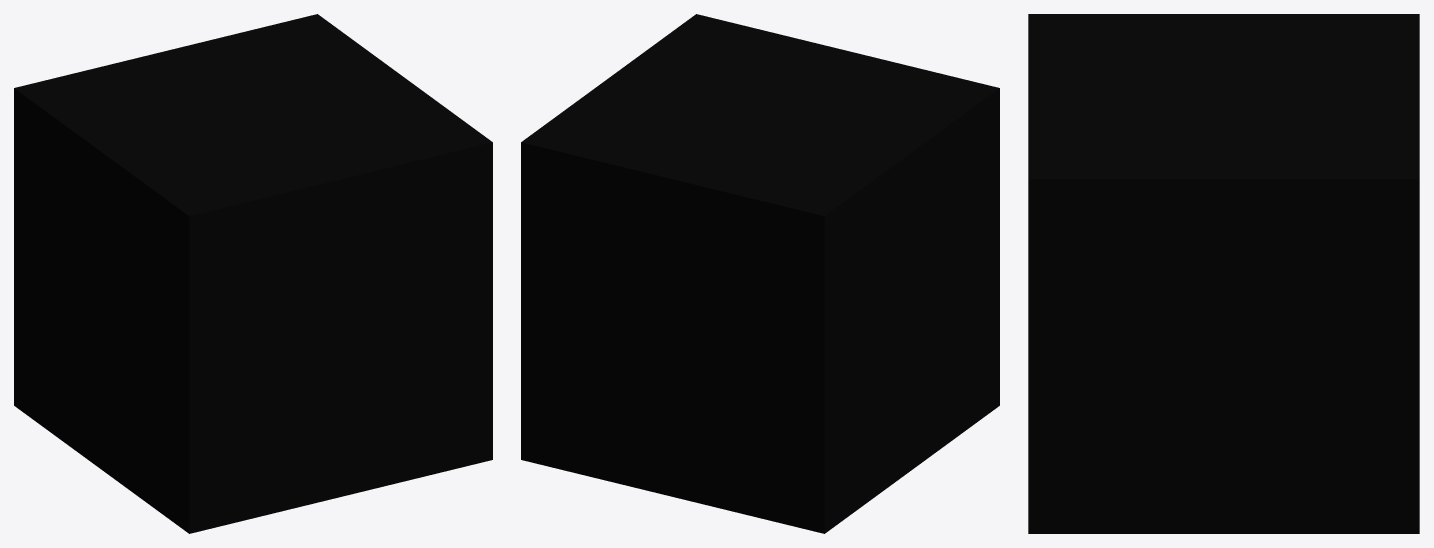
The model's file is 05_coffee-mug-01.glb.
3 renders of one model, left to right at view 1: azimuth 30°, elevation 25°; view 2: azimuth 150°, elevation 25°; view 3: azimuth 270°, elevation 25°, orthographic. The views are drawn at different scales.
Parts seen in each view (by area): view 1: clear-box; view 2: clear-box; view 3: clear-box.
Boxes of the visible parts, x1,y1,x2,y2 form: clear-box: (14, 14, 492, 533); clear-box: (521, 14, 999, 533); clear-box: (1028, 14, 1419, 533).
Bounding box in the file's own units: 0.762 × 0.762 × 0.762.
3 materials, 3 textured.
